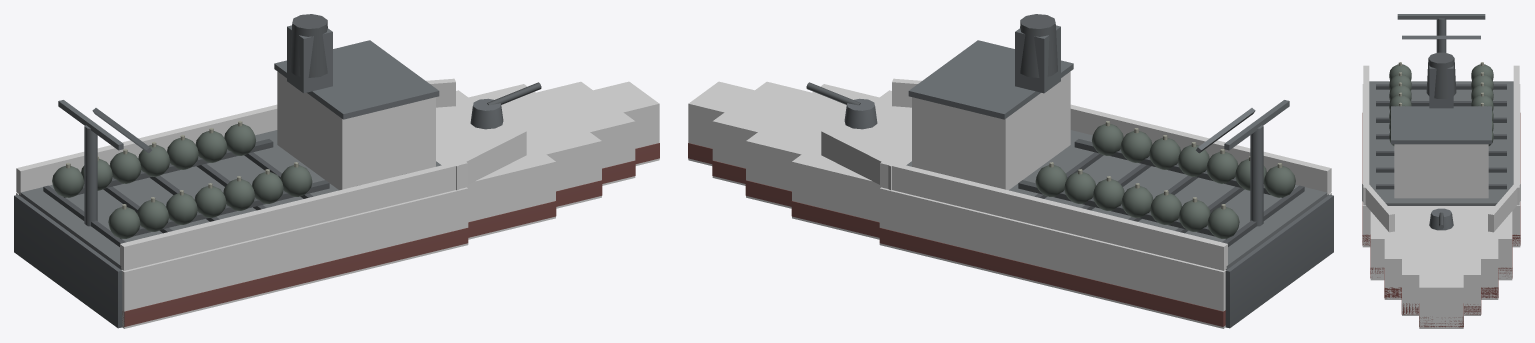
File: m_minel_a0630394.glb
The picture shows the model from 3 angles, left to right: view 1: azimuth 30°, elevation 25°; view 2: azimuth 150°, elevation 25°; view 3: azimuth 270°, elevation 25°; orthographic projection. The views are drawn at different scales.
Parts seen in each view (by area): view 1: mesh; view 2: mesh; view 3: mesh.
Boxes of the visible parts, x1,y1,x2,y2 form: mesh: (14,14,659,328); mesh: (688,14,1333,328); mesh: (1362,14,1520,328).
Bounding box in the file's own units: 55.51 × 19.2 × 18.14.
